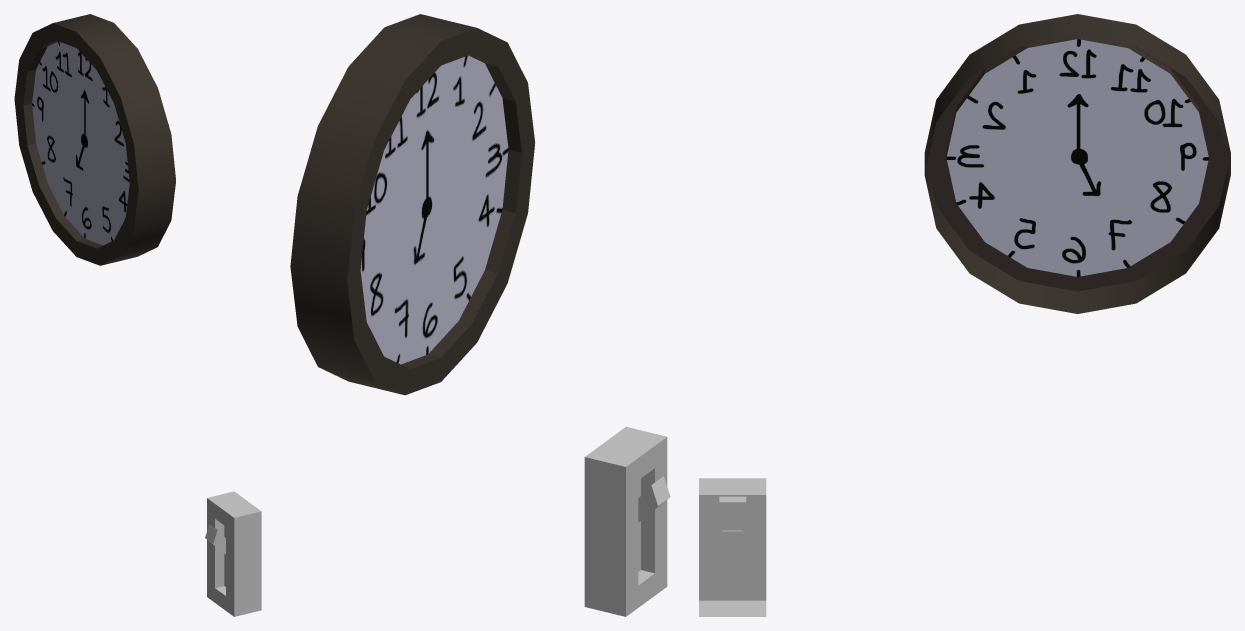
Rendered from Clock_Switch.FBX.
The picture shows the model from 3 angles, left to right: view 1: azimuth 30°, elevation 25°; view 2: azimuth 150°, elevation 25°; view 3: azimuth 270°, elevation 25°; orthographic projection. The views are drawn at different scales.
Parts seen in each view (by area): view 1: Clock, Light_switch; view 2: Clock, Light_switch; view 3: Clock, Light_switch.
Part boxes in pixels (box(x1,y1,x2,y2)): Clock: box(14, 14, 175, 265); Light_switch: box(205, 491, 261, 616); Clock: box(290, 14, 535, 395); Light_switch: box(584, 426, 670, 616); Clock: box(924, 14, 1230, 313); Light_switch: box(699, 478, 766, 616).
Bounding box in the file's own units: 10.83 × 109 × 90.05.
